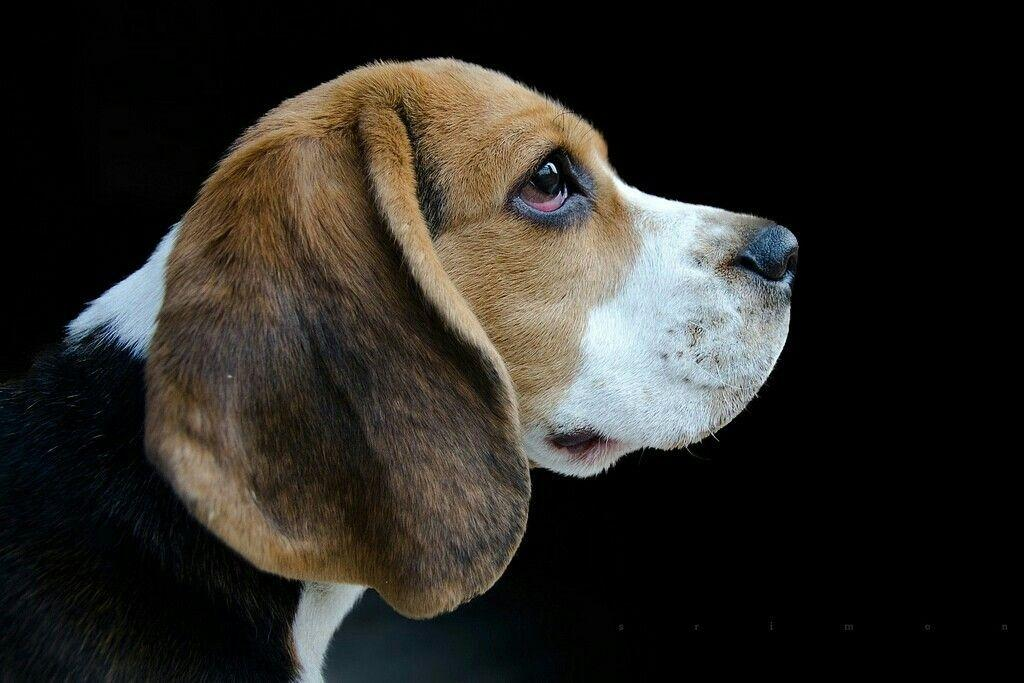puppy-dog: (1, 54, 803, 681)
